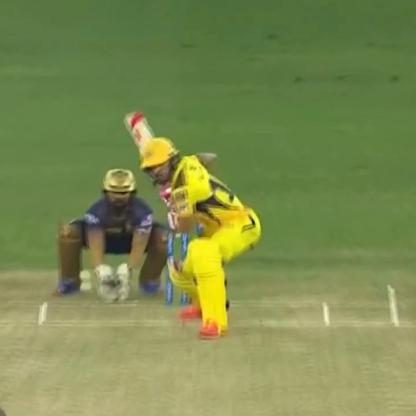ball: (77, 284, 94, 296), (76, 269, 96, 279)
bat: (123, 106, 194, 197)
pitch: (4, 284, 416, 416)
